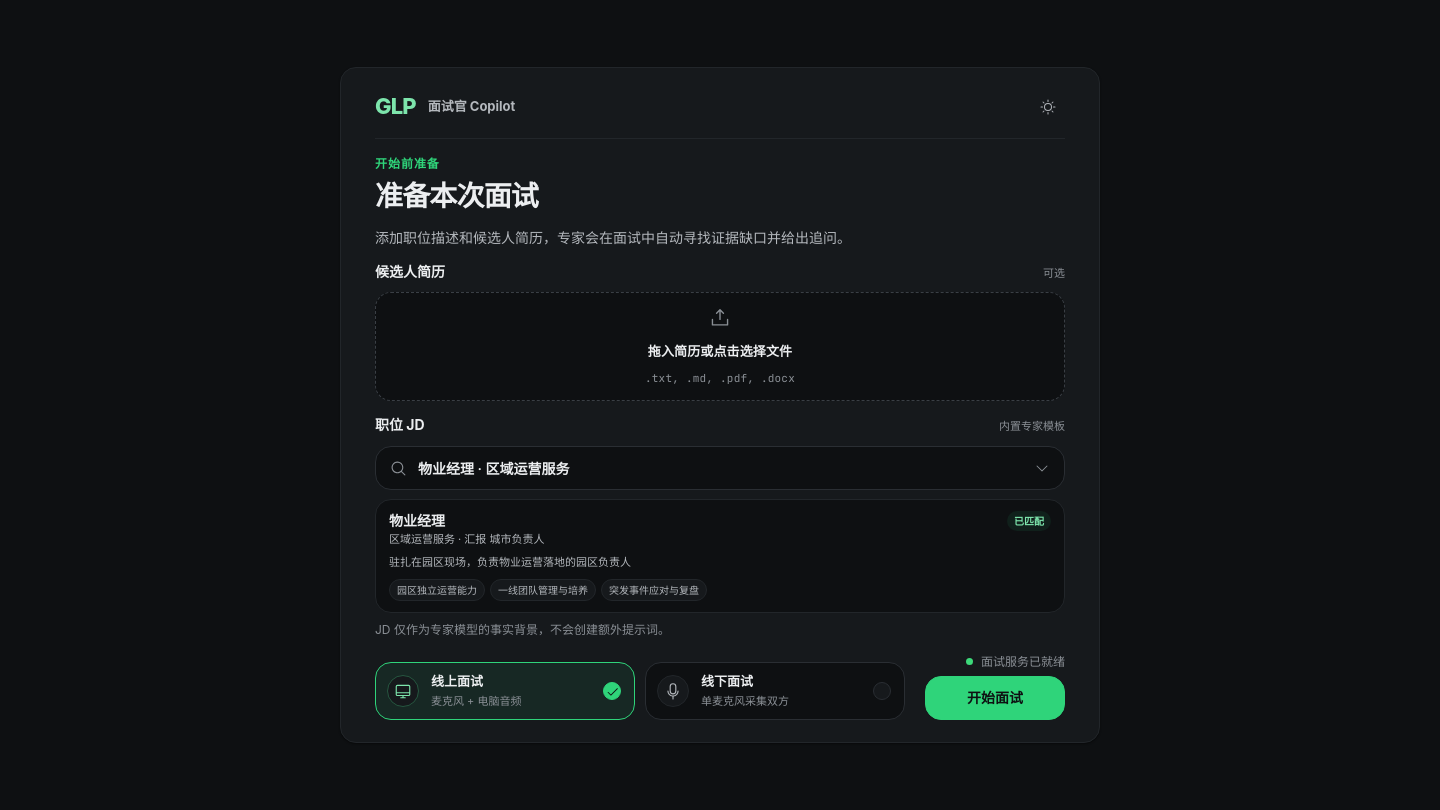
Test case: Shell one-shot interview workflow › adds notes to transcript while preserving the manual Expert control
Click the button "开始面试". click: (995, 698)
box: [925, 676, 1065, 720]
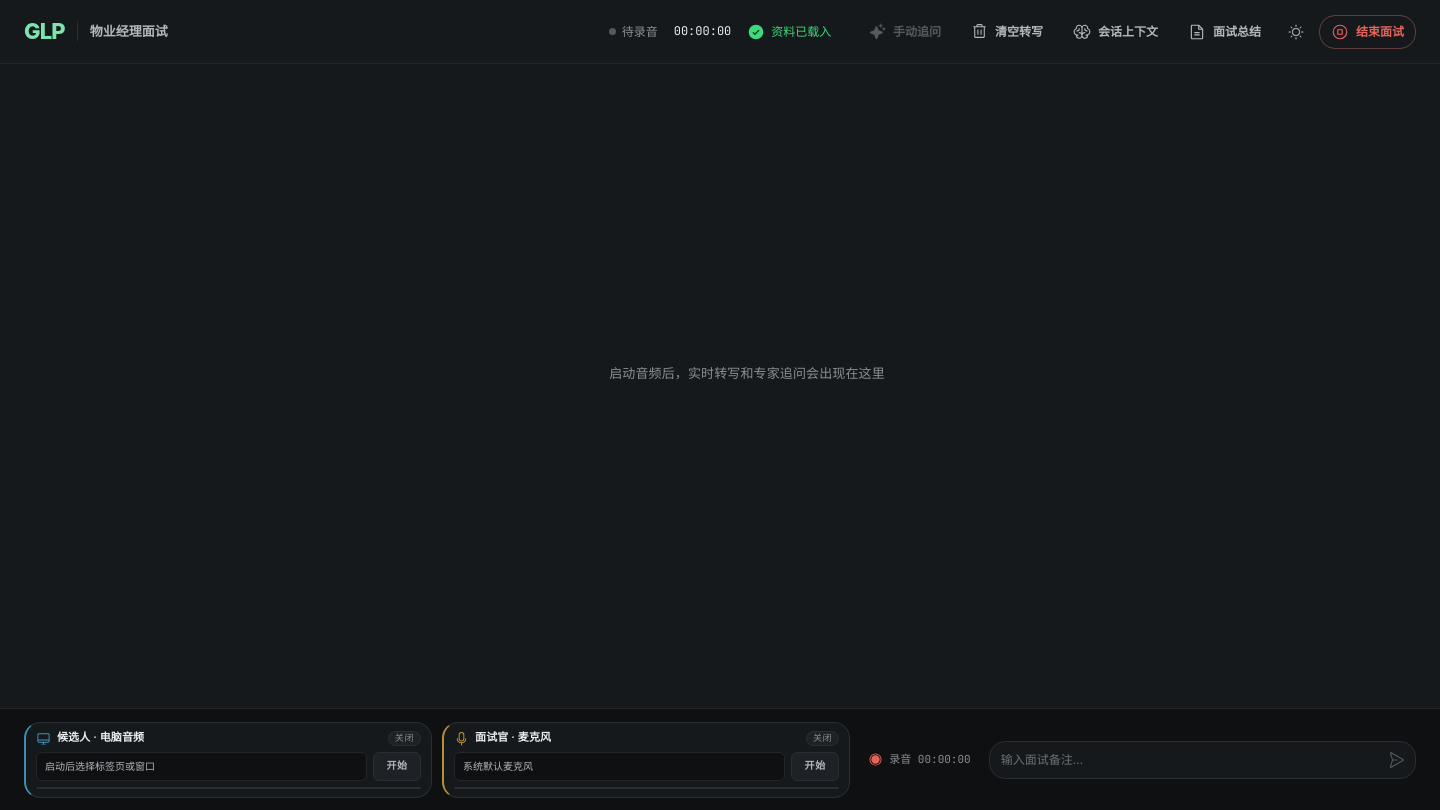
Expected: the button "结束面试" is shown, [1319, 14, 1416, 48]
Type "追问消防演练频率" into the text box labelled "面试备注". click: (1185, 760)
box: [990, 742, 1381, 778]
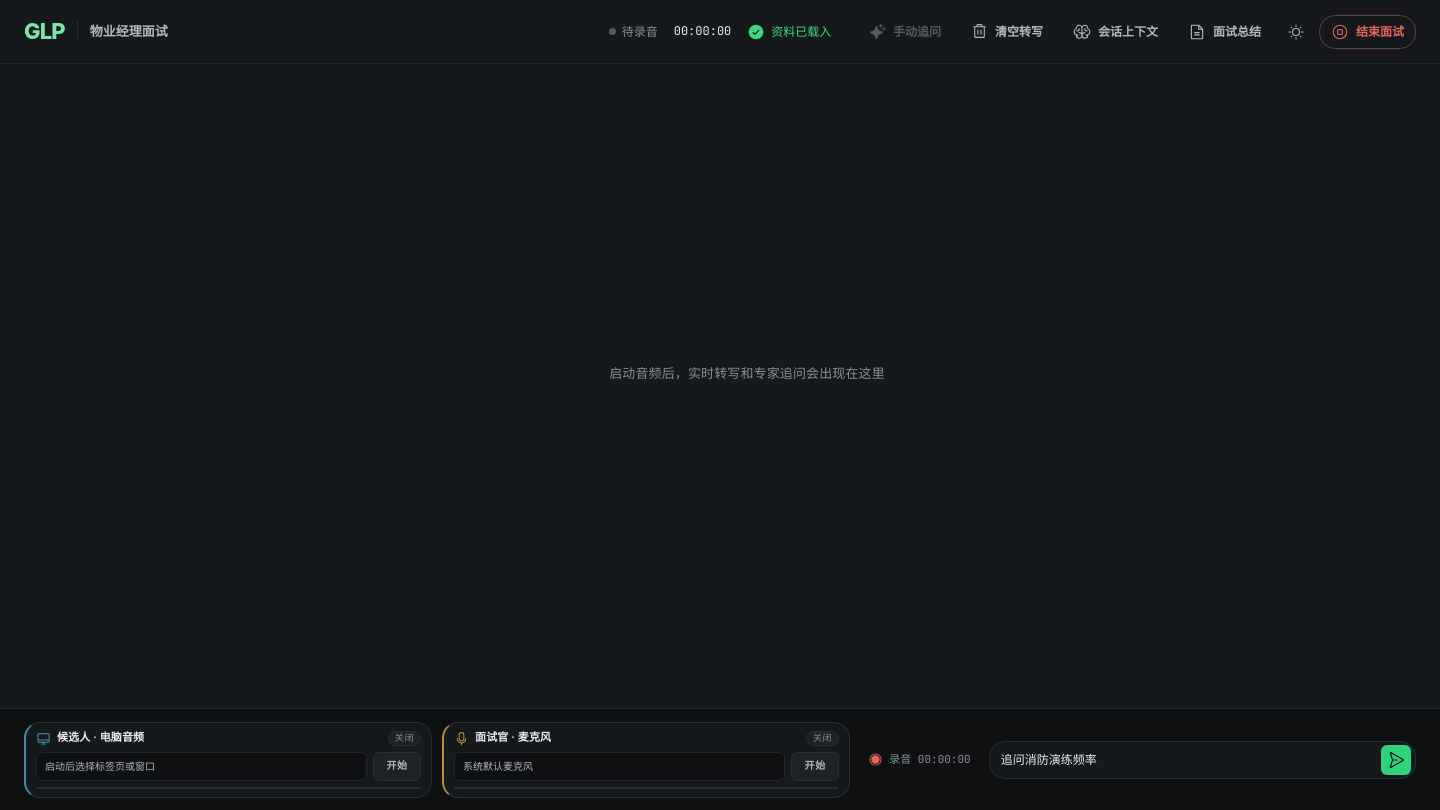
Click the button named "添加备注". click: (1396, 760)
box: [1381, 744, 1411, 774]
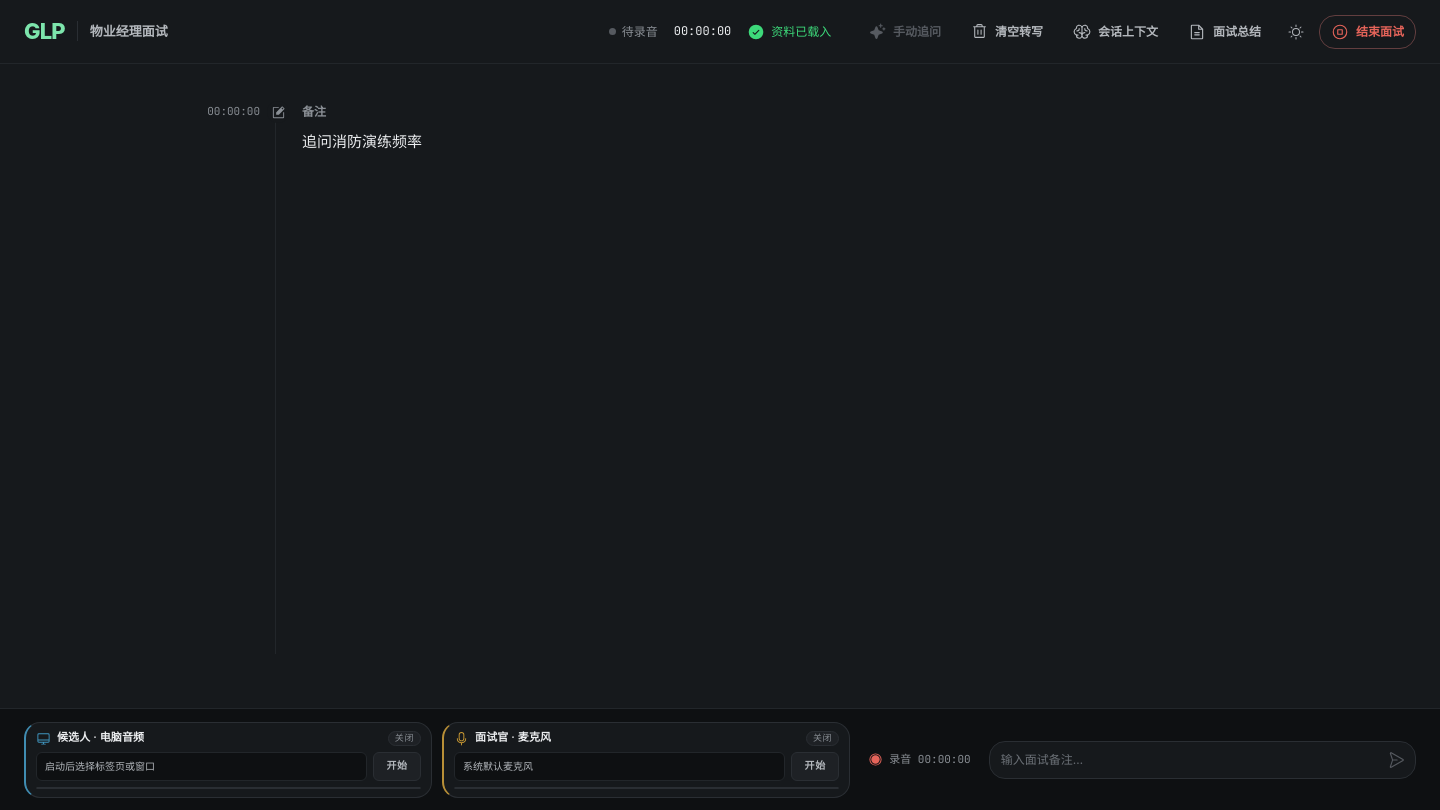
Expected: the button "手动追问" is shown, [857, 14, 953, 48]
Expected: the text "追问消防演练频率" is shown, [302, 132, 422, 151]
Click the button with aria-label "打开会话上下文". click: (1116, 32)
box: [1061, 14, 1170, 48]
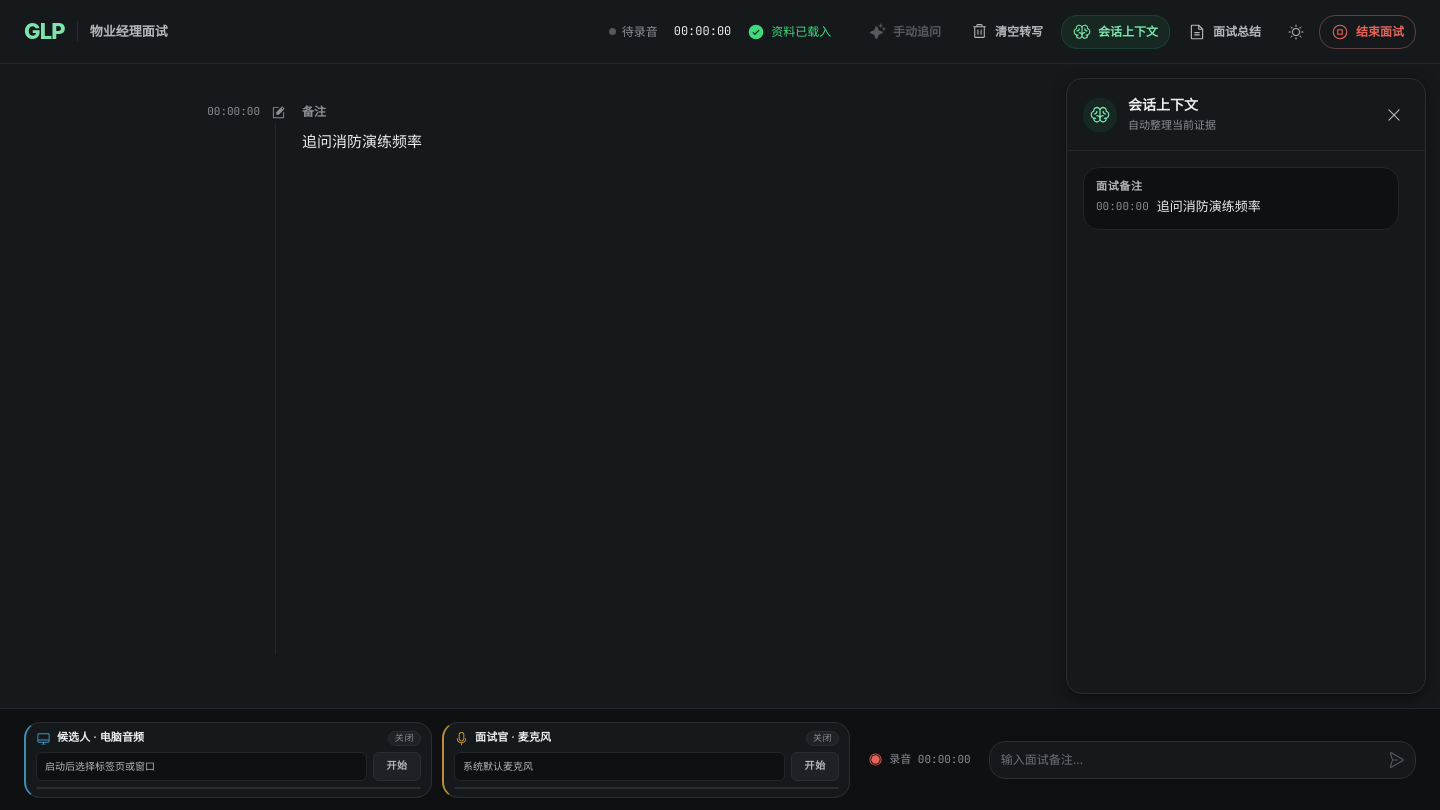
Expected: the heading "面试备注" is shown, [1096, 179, 1143, 193]
Expected: the text "追问消防演练频率" below "面试备注" is shown, [1157, 198, 1261, 214]
